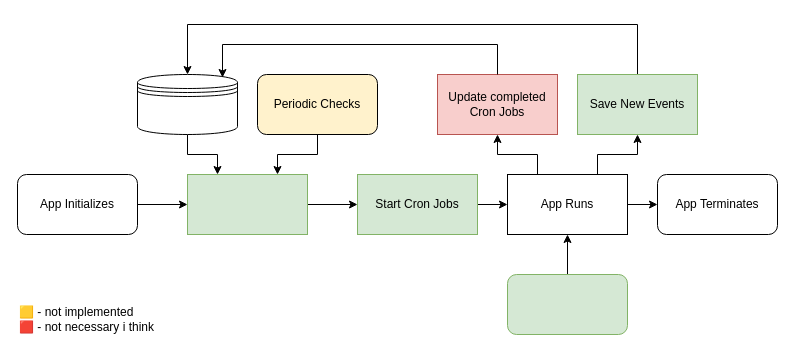
This 795x352 diagram has some shape labels left out. Here are the shapes that lost their labels. From the top down, the box of each, then its label:
(136, 74, 238, 134): Upcoming Activities
(186, 174, 308, 234): Load Cron Jobs
(506, 274, 628, 334): New Events
